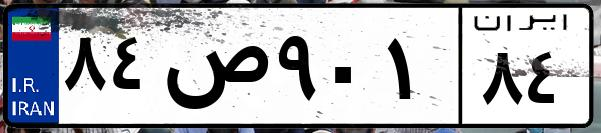0: (330, 28, 385, 110)
1: (385, 28, 445, 110)
4: (525, 38, 570, 115), (110, 28, 158, 98)
8: (57, 26, 110, 100), (475, 38, 525, 113)
9: (270, 28, 330, 110)
ص: (158, 20, 270, 120)
